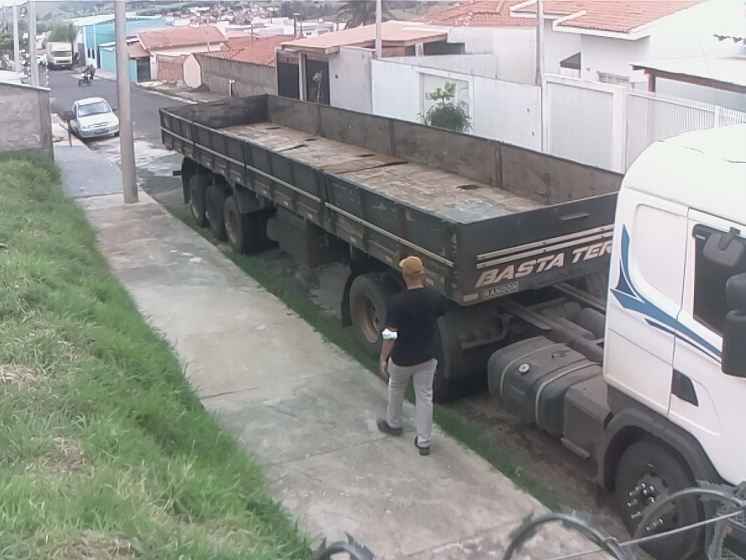person: (375, 252, 449, 458)
